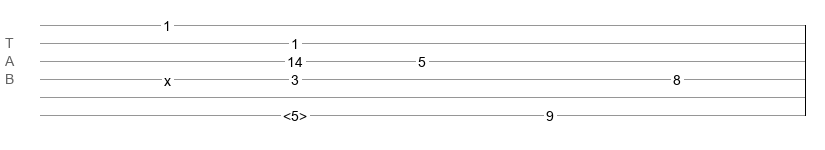1: (163, 18, 171, 28), (291, 36, 299, 46)
14: (287, 54, 303, 64)
3: (291, 72, 299, 82)
5: (418, 54, 426, 64)
8: (673, 72, 681, 82)
9: (546, 108, 554, 118)
harmonic: (283, 108, 307, 118)
x: (164, 73, 171, 81)
